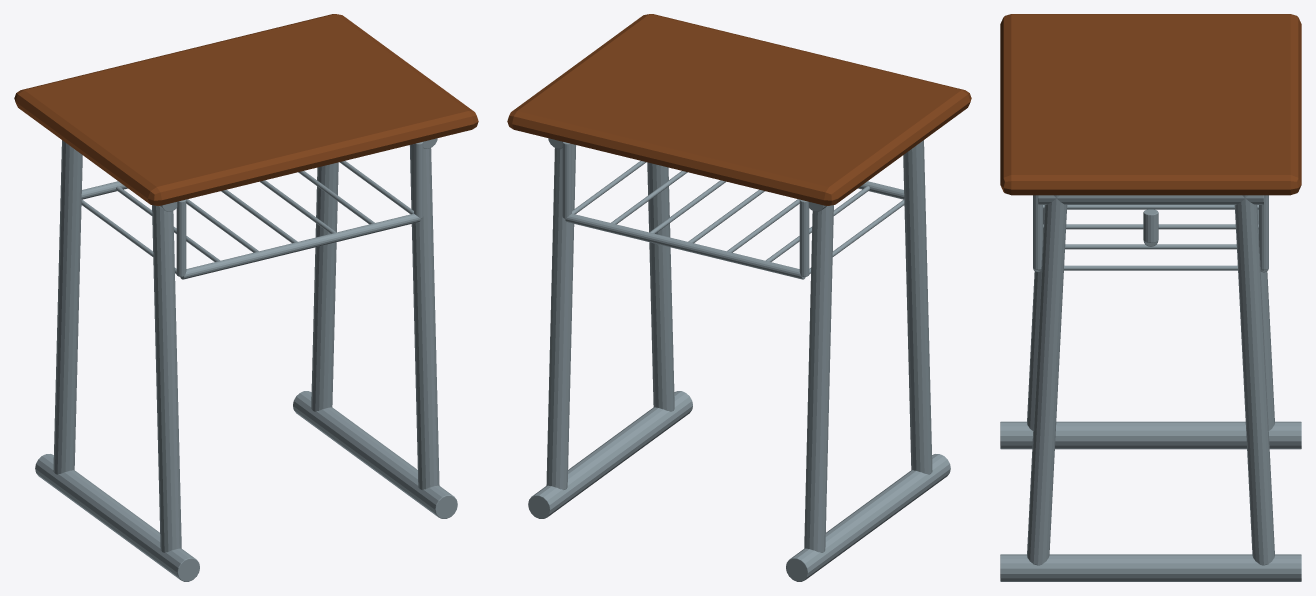
Rendered from edited.glb.
3 views of the same model, side by side, from view 1: azimuth 30°, elevation 25°; view 2: azimuth 150°, elevation 25°; view 3: azimuth 270°, elevation 25° (orthographic). The views are drawn at different scales.
Parts seen in each view (by area): view 1: TOP_WritingSurface, BOOK_Basket, FRAME_Front, FRAME_Rear, FRAME_Front.001, FRAME_Rear.001, FRAME_Foot, FRAME_Foot.001; view 2: TOP_WritingSurface, BOOK_Basket, FRAME_Rear, FRAME_Front, FRAME_Rear.001, FRAME_Front.001, FRAME_Foot, FRAME_Foot.001; view 3: TOP_WritingSurface, FRAME_Front.001, FRAME_Rear.001, FRAME_Foot.001, FRAME_Foot, BOOK_Basket, FRAME_Upper.001, FRAME_Front, FRAME_Rear, BAG_HookEnd.
Boxes of the visible parts, left/top/right/bottom form: TOP_WritingSurface: left=14, top=14, right=478, bottom=205; BOOK_Basket: left=81, top=142, right=423, bottom=279; FRAME_Front: left=152, top=205, right=181, bottom=552; FRAME_Rear: left=53, top=140, right=82, bottom=474; FRAME_Front.001: left=409, top=144, right=439, bottom=489; FRAME_Rear.001: left=311, top=162, right=338, bottom=411; FRAME_Foot: left=35, top=454, right=199, bottom=581; FRAME_Foot.001: left=293, top=391, right=457, bottom=518; TOP_WritingSurface: left=507, top=14, right=971, bottom=205; BOOK_Basket: left=562, top=142, right=904, bottom=279; FRAME_Rear: left=804, top=205, right=833, bottom=552; FRAME_Front: left=903, top=140, right=932, bottom=474; FRAME_Rear.001: left=546, top=144, right=576, bottom=489; FRAME_Front.001: left=647, top=162, right=674, bottom=411; FRAME_Foot: left=786, top=454, right=950, bottom=581; FRAME_Foot.001: left=528, top=391, right=692, bottom=518; TOP_WritingSurface: left=1000, top=14, right=1301, bottom=195; FRAME_Front.001: left=1027, top=195, right=1067, bottom=565; FRAME_Rear.001: left=1234, top=195, right=1274, bottom=565; FRAME_Foot.001: left=1000, top=554, right=1301, bottom=581; FRAME_Foot: left=1000, top=421, right=1301, bottom=449; BOOK_Basket: left=1033, top=195, right=1268, bottom=272; FRAME_Upper.001: left=1038, top=195, right=1263, bottom=204; FRAME_Front: left=1027, top=209, right=1044, bottom=430; FRAME_Rear: left=1257, top=209, right=1274, bottom=430; BAG_HookEnd: left=1143, top=209, right=1158, bottom=242.
Size of the model in its own units: 0.671 by 0.7375 by 0.48.
